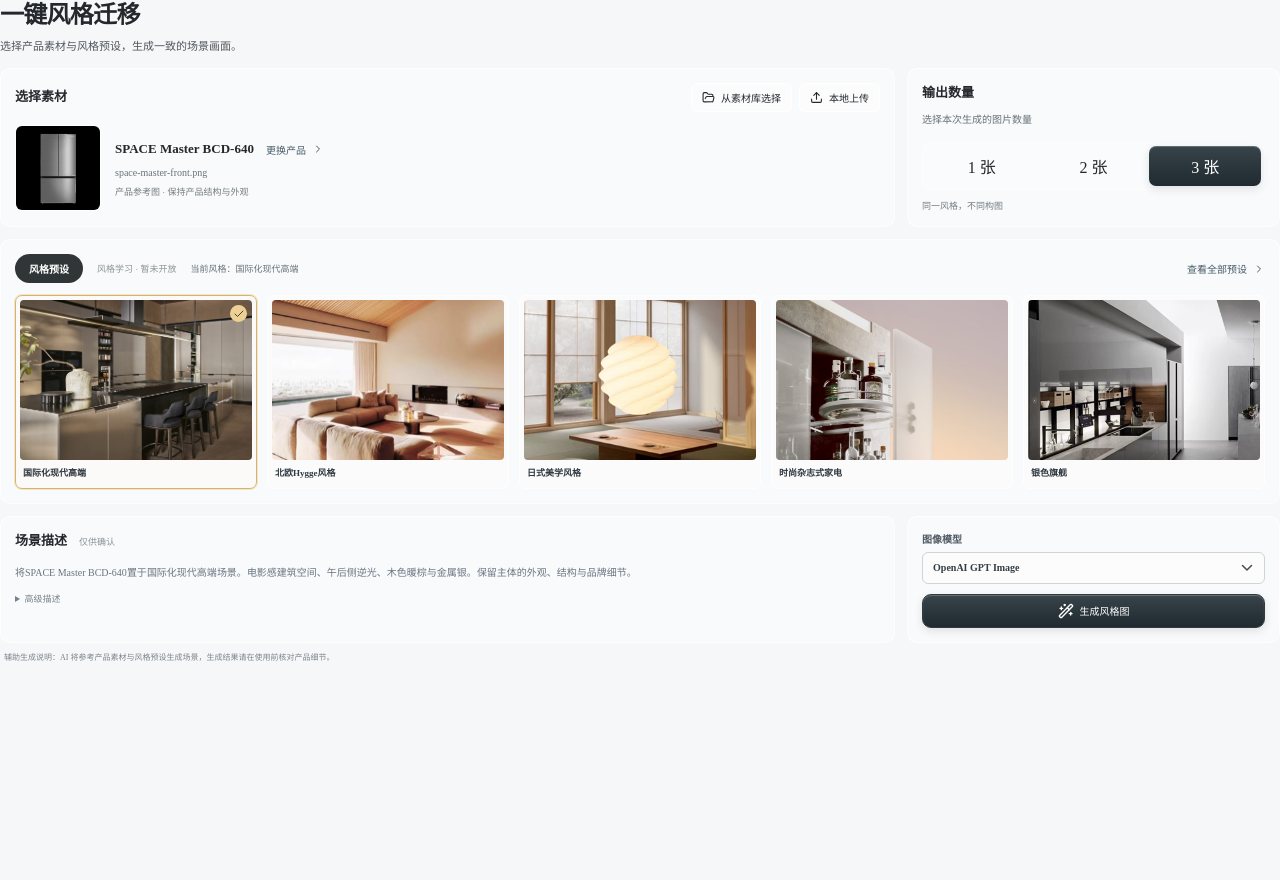
Scenario: one-click style transfer › honors an explicitly selected preset even when custom keywords mention another
Click the button "日式美学风格" at x=640, y=392, box [519,295,761,489]
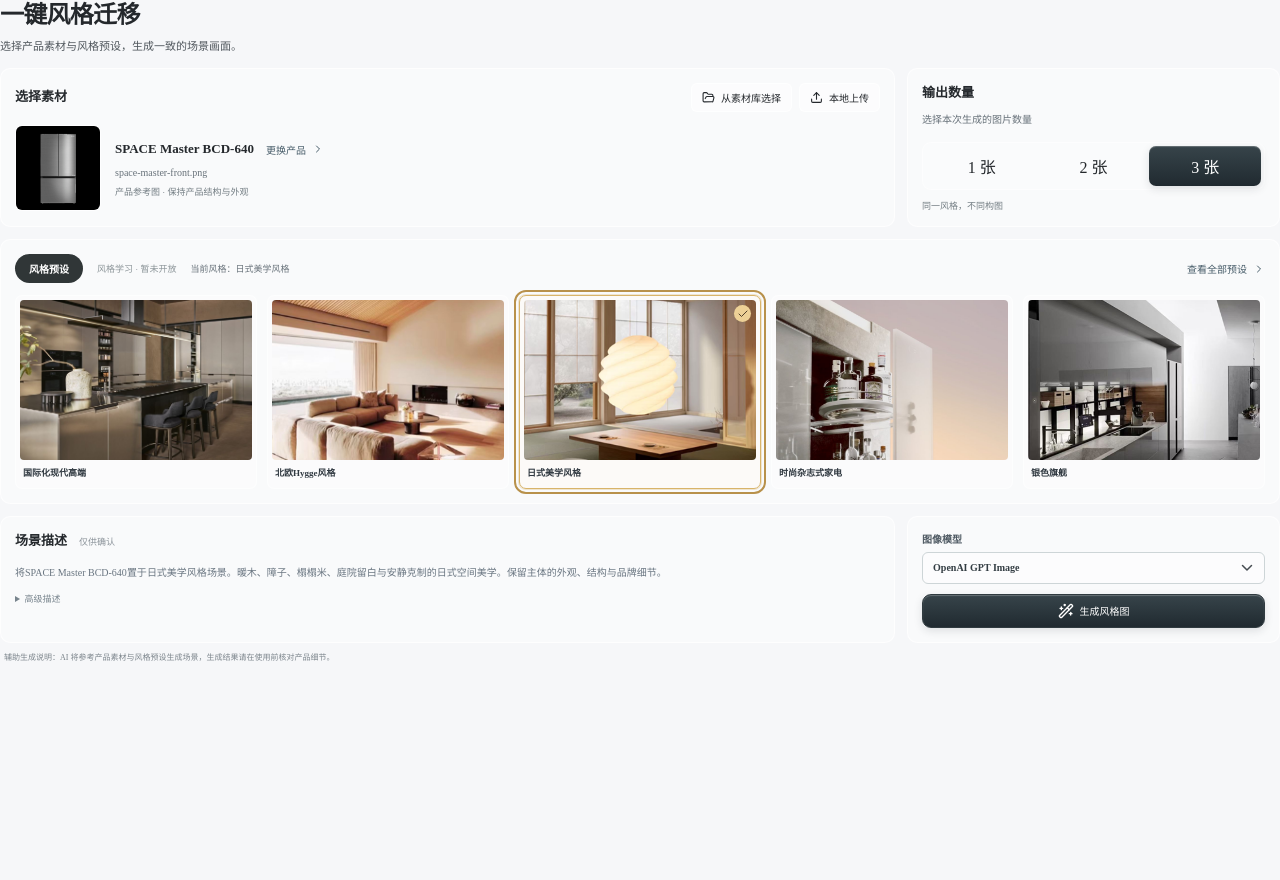
Click the heading "高级描述" at x=42, y=599, box [24,594,60,604]
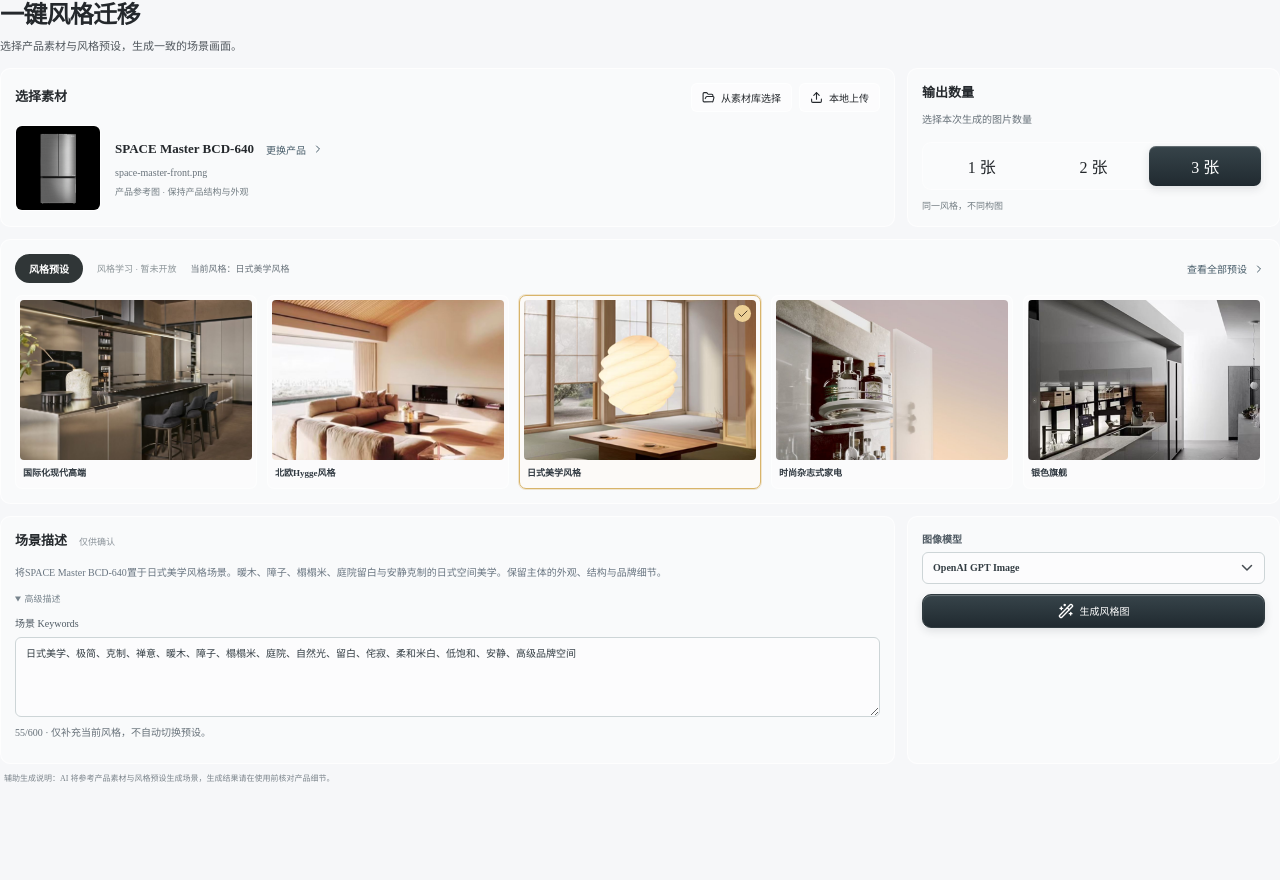
Replace the text in the text box labelled "场景 Keywords" with "石墨灰 黑色金属" at x=448, y=677, box [15,637,880,717]
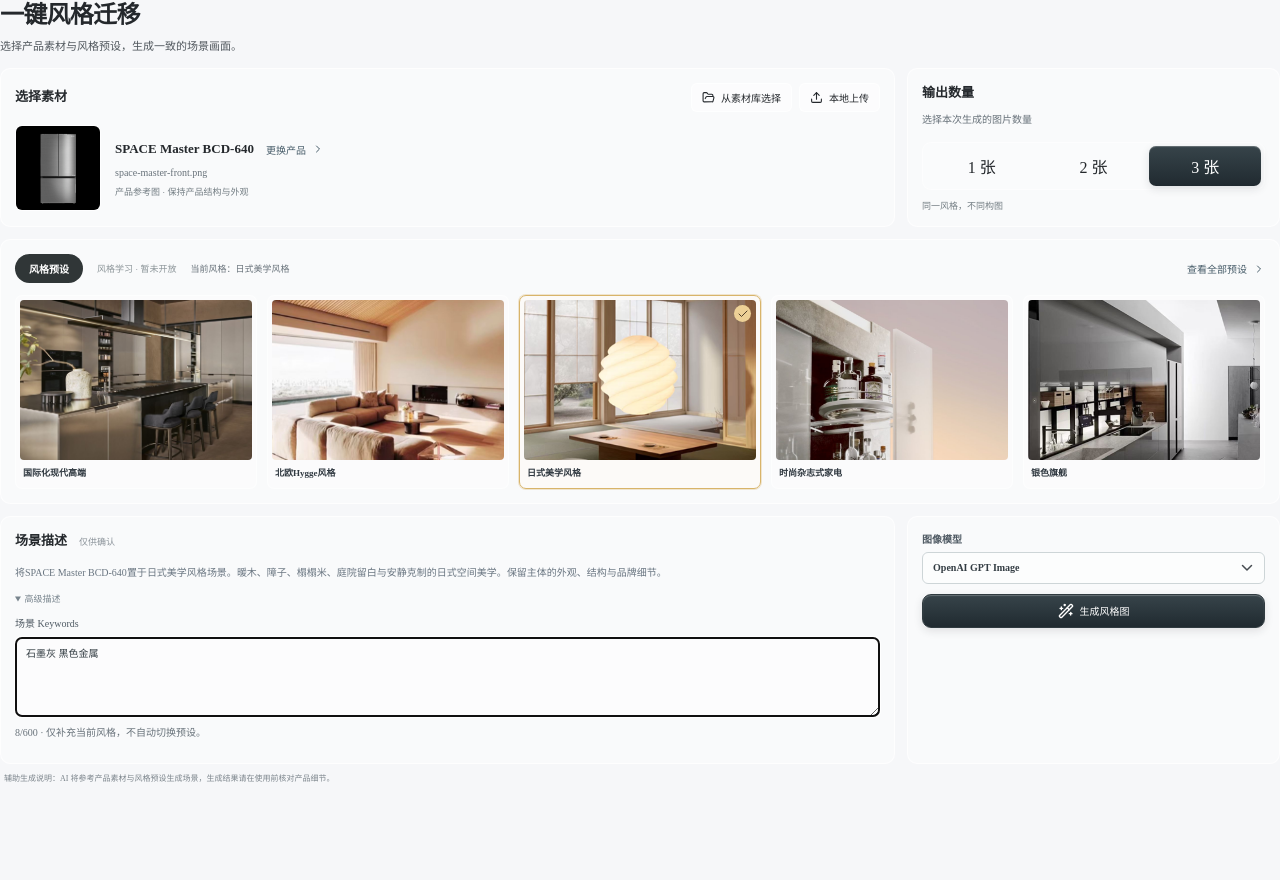
Select "Seedream 5.0 Lite" in the dropdown labelled "图像模型" at x=1094, y=568, box [922,552,1265,584]
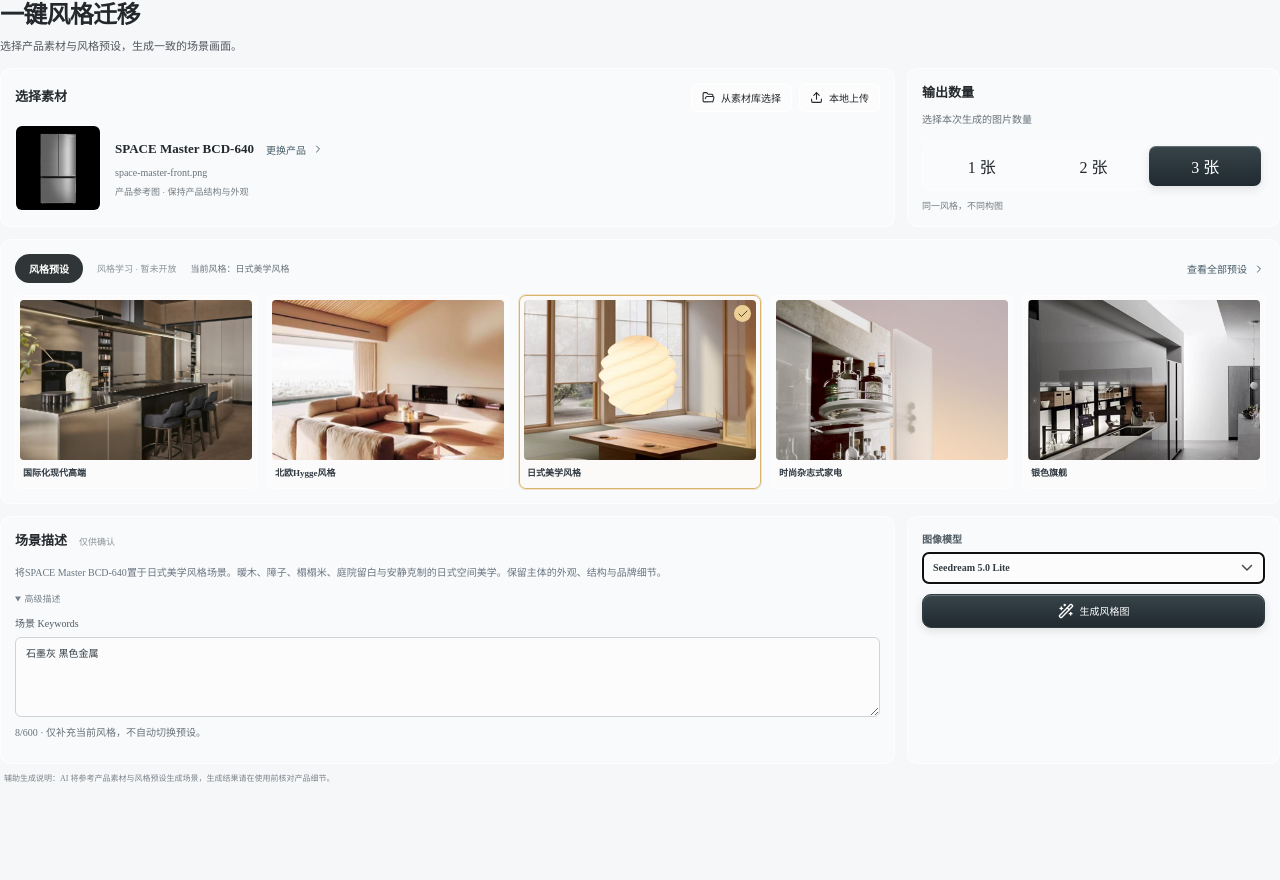
Click the radio button labelled "1 张" at x=982, y=166, box [926,146,1038,186]
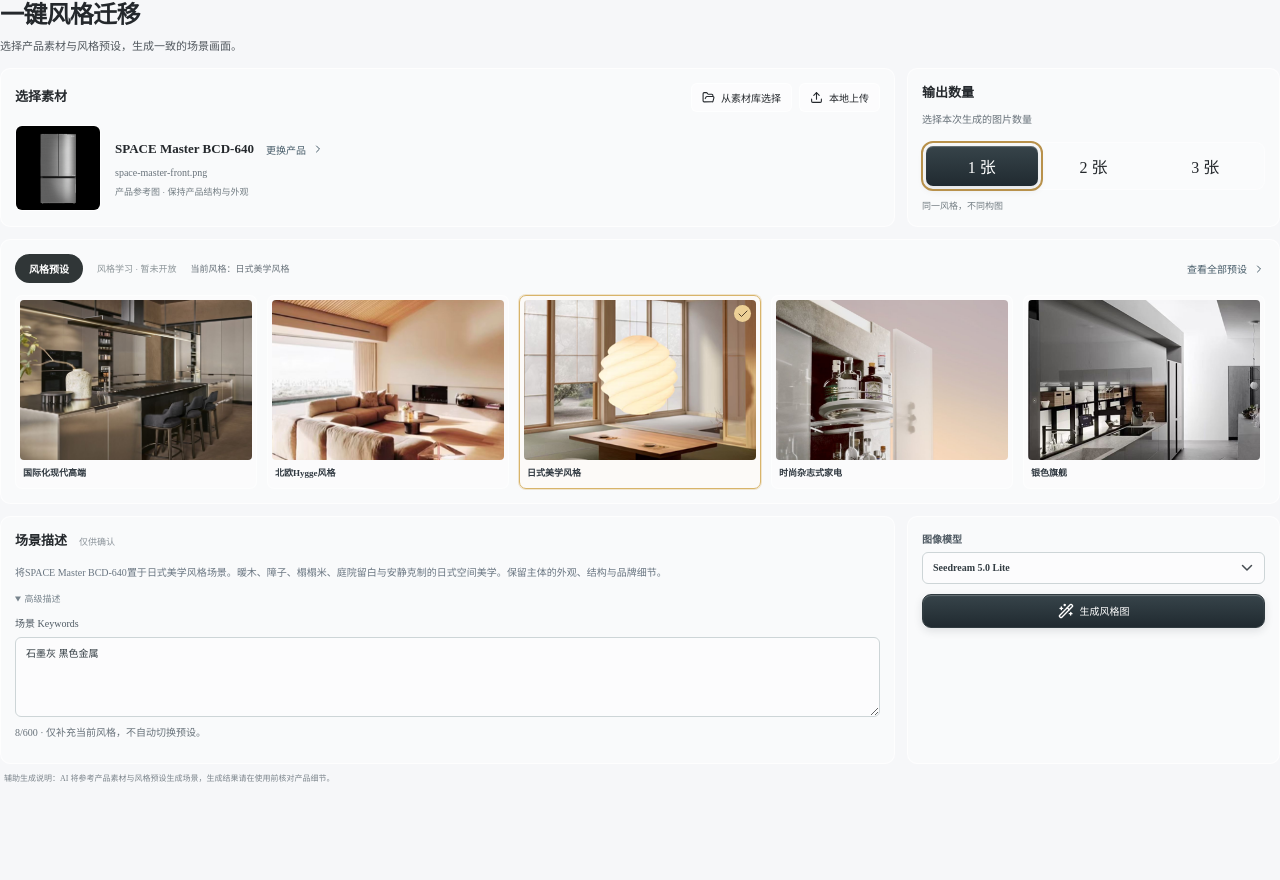
Click the button "生成风格图" at x=1094, y=611, box [922,594,1265,628]
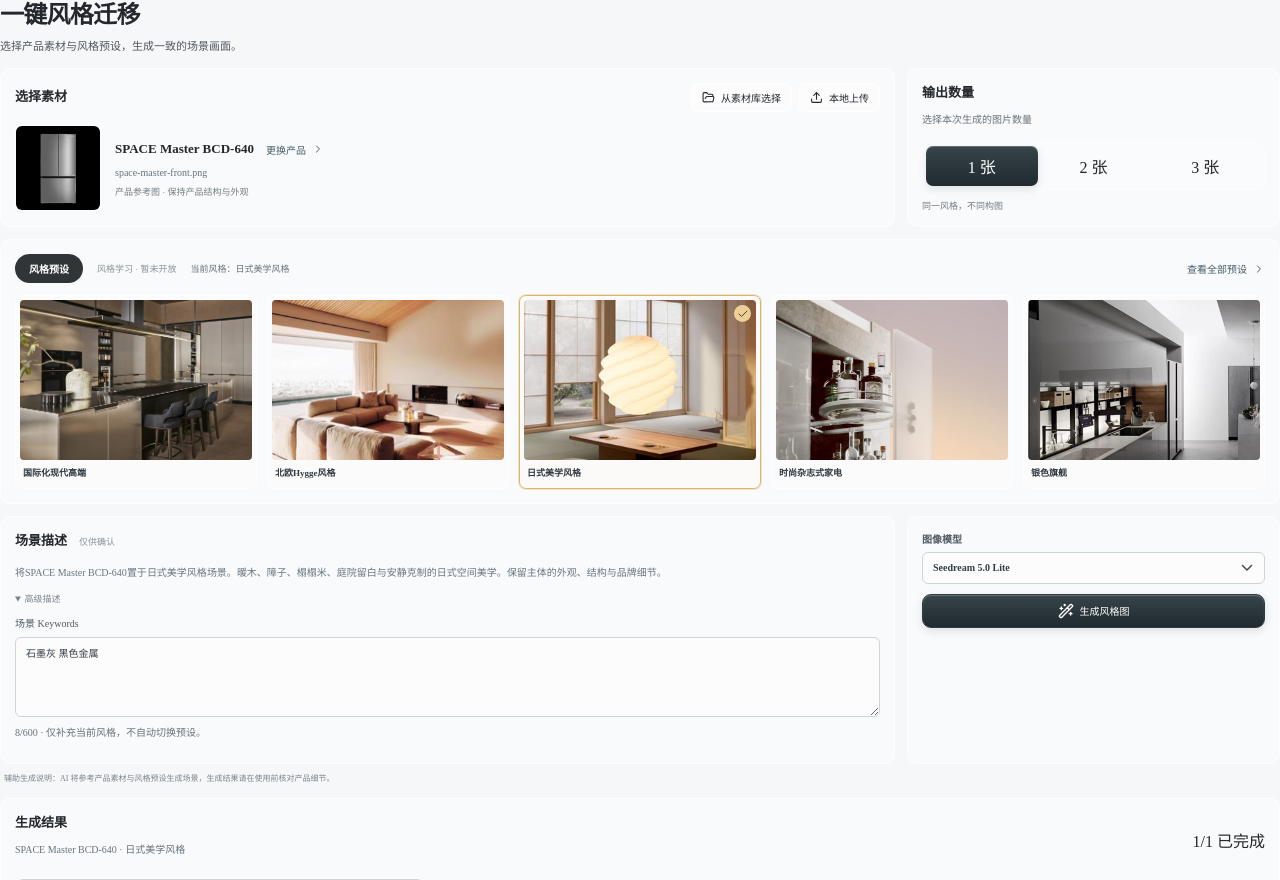
Expected: the text "1/1 已完成" is shown, [1192,828,1265,852]
